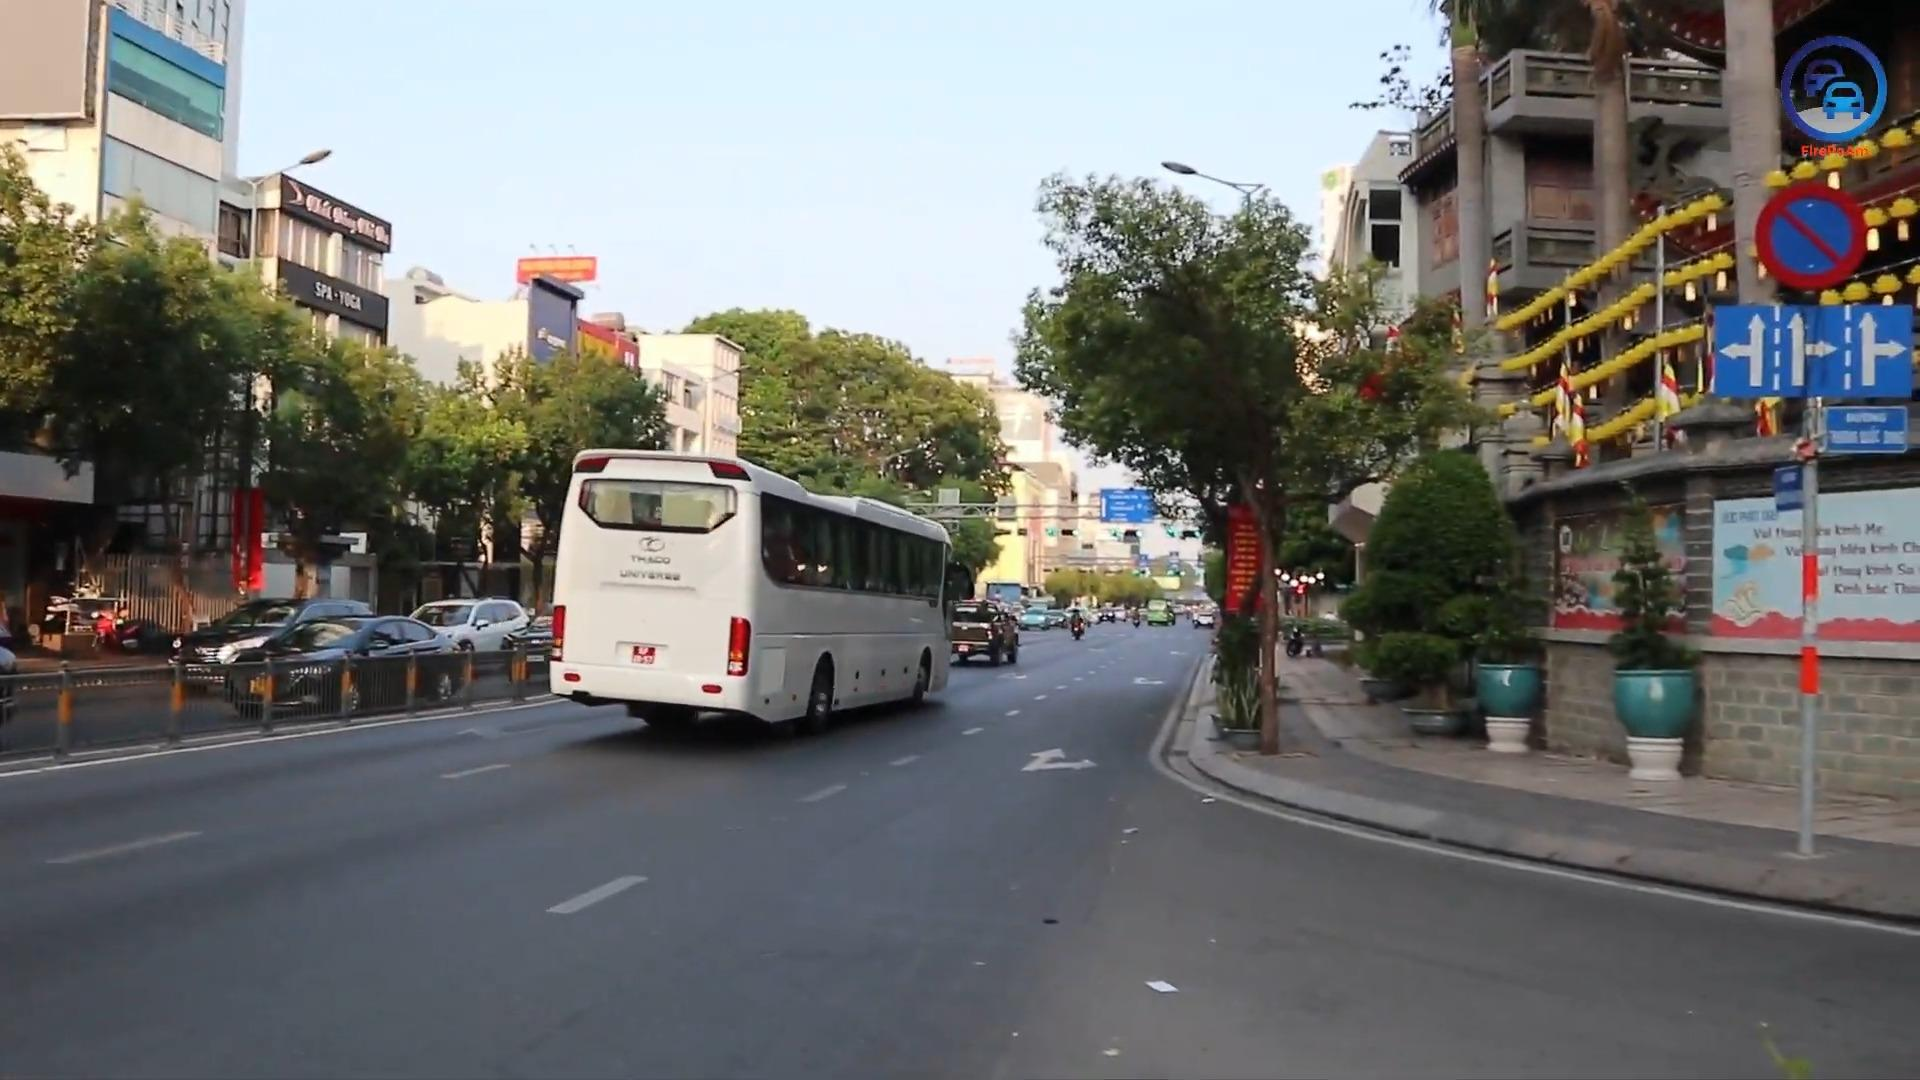bien_so: (631, 644, 657, 666)
